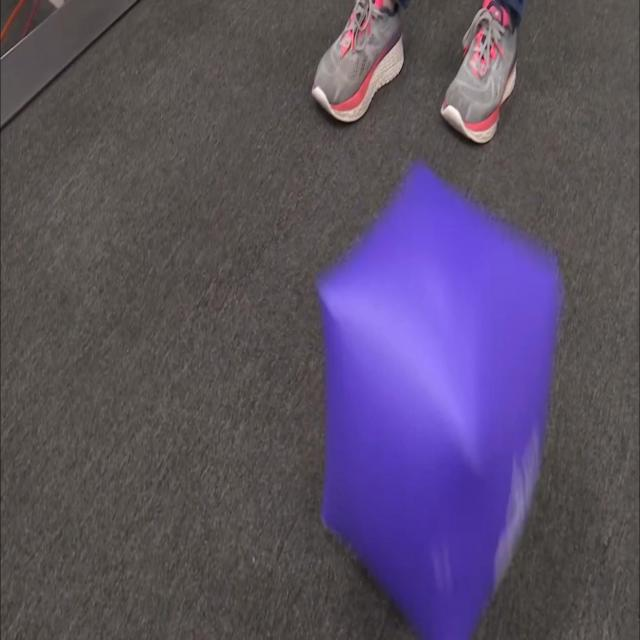frc_cube: (319, 159, 568, 640)
